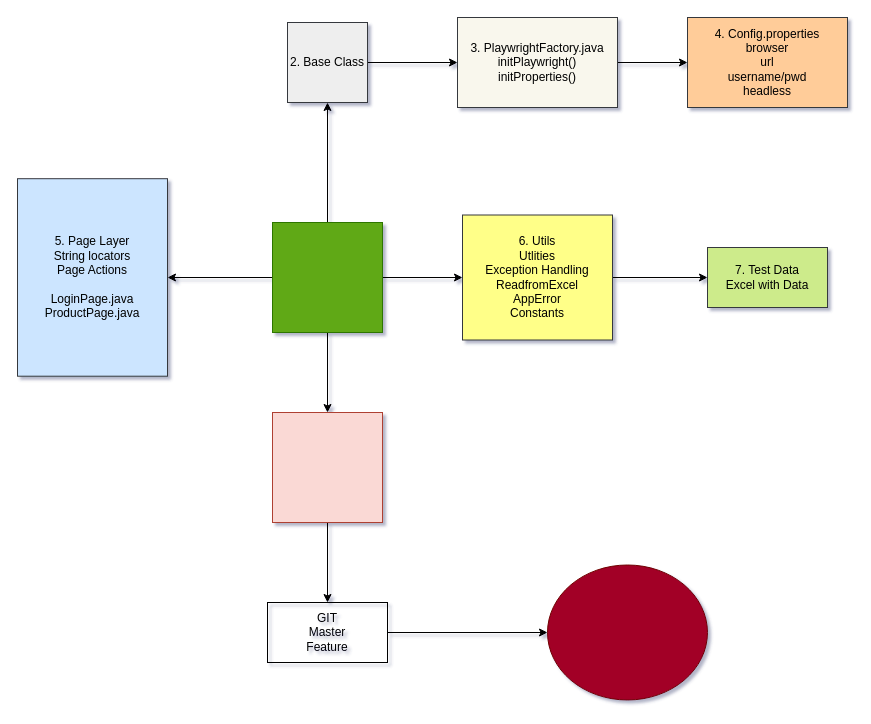
This 871x724 diagram has some shape labels left out. The shapes that lost their labels are listed below. From the top down, each one's box as (x1, y1, x2, y2) in pixels, then its label:
(272, 222, 382, 332): 1. Test Case TC01 TC02
(272, 412, 382, 522): 8. Reporting Allure Extent TestNg Report Listener
(546, 564, 708, 700): CI/CD Pipeline Jenkins GitHub
